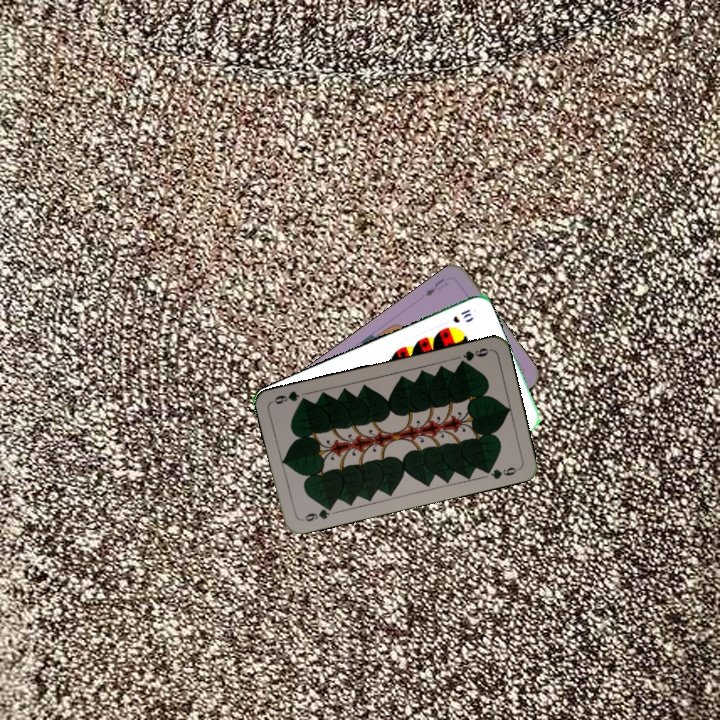EU: (421, 274, 450, 299)
G9: (455, 344, 493, 368), (298, 502, 336, 524)
S10: (449, 305, 474, 326)
